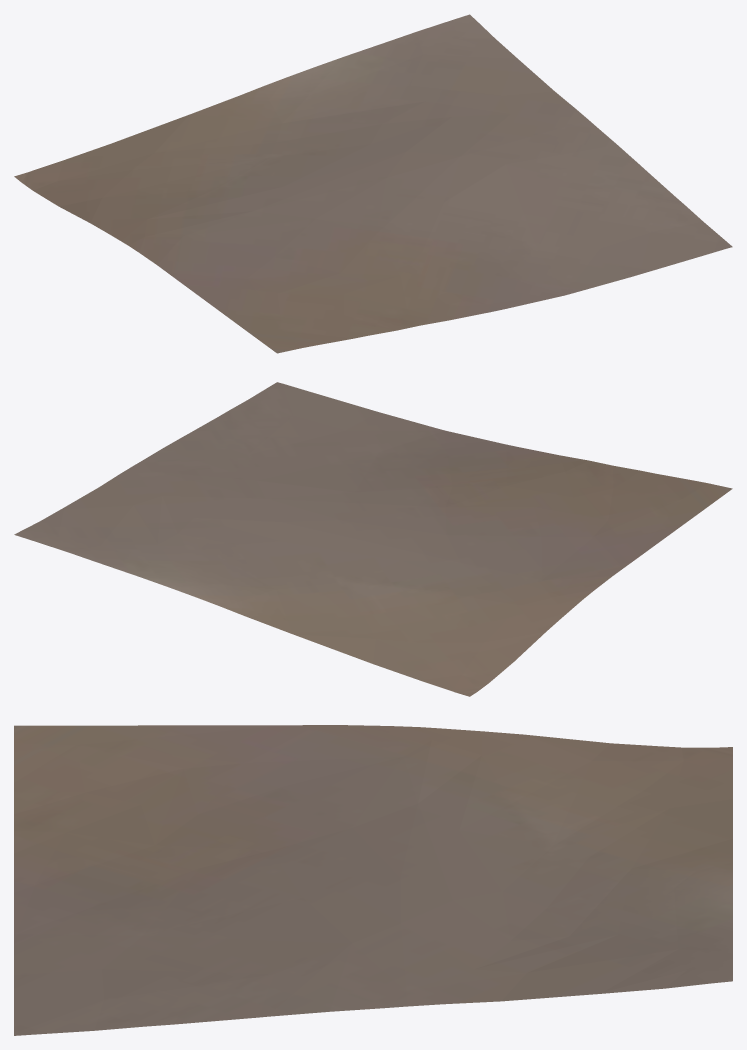
The picture shows the model from 3 angles, top to bottom: view 1: azimuth 30°, elevation 25°; view 2: azimuth 150°, elevation 25°; view 3: azimuth 270°, elevation 25°; orthographic projection. The views are drawn at different scales.
Size of the model in its own units: 85.74 by 9.24 by 85.74.
Materials: 1 (1 with a texture image).
